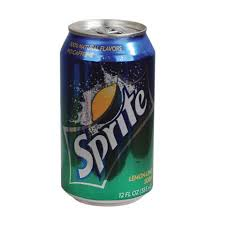can: (57, 16, 153, 208)
